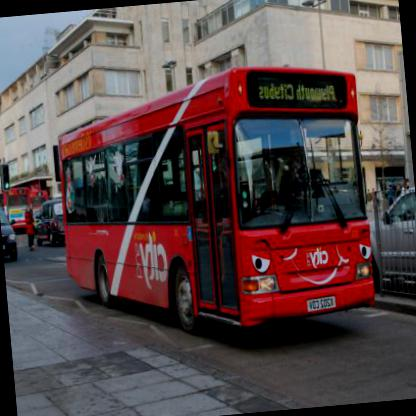bus: (50, 56, 377, 342), (0, 181, 35, 236), (27, 186, 53, 231)
